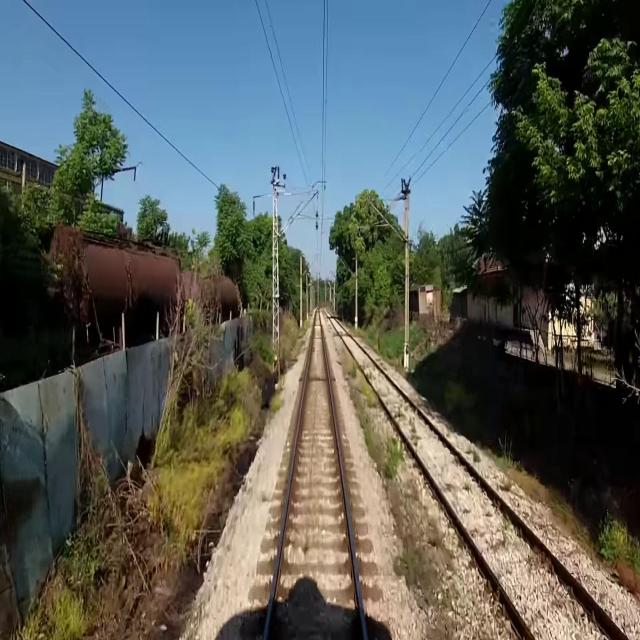rail-track: (330, 316, 624, 639), (268, 311, 362, 639)
